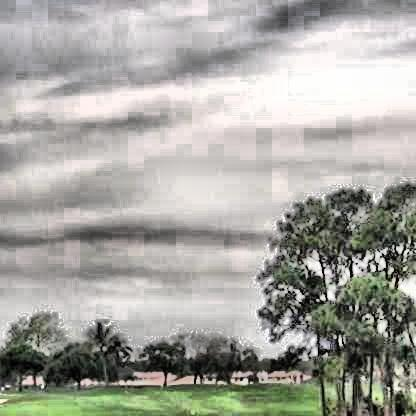golfball: (98, 315, 105, 322)
